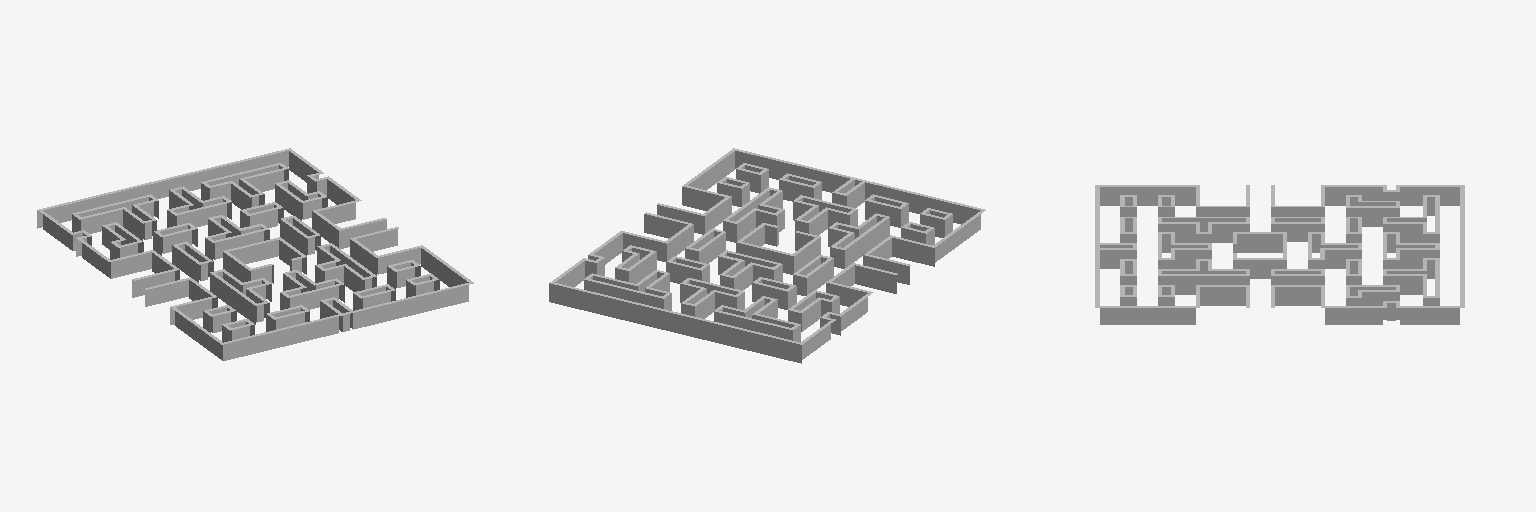
Rendered from map.obj.
The picture shows the model from 3 angles: view 1: azimuth 30°, elevation 25°; view 2: azimuth 150°, elevation 25°; view 3: azimuth 270°, elevation 25°; orthographic projection.
Parts seen in each view (by area): view 1: Cube.001, Cube.020, Cube.019, Cube.016, Cube.008, Cube.007, Cube.013, Cube.009, Cube.012, Cube.017, Cube.011, Cube.010 (+9 smaller); view 2: Cube.001, Cube.016, Cube.008, Cube.019, Cube.020, Cube.007, Cube.013, Cube.009, Cube.012, Cube.018, Cube.017, Cube.011 (+9 smaller); view 3: Cube.001, Cube.008, Cube.016, Cube.007, Cube.019, Cube.020, Cube.013, Cube.012, Cube.009, Cube.018, Cube.017, Cube.011 (+1 smaller).
Boxes of the visible parts, box(x1,y1,x2,y2) form: Cube.001: box(37, 148, 473, 360); Cube.020: box(72, 194, 158, 240); Cube.019: box(201, 163, 288, 209); Cube.016: box(223, 237, 306, 283); Cube.008: box(210, 269, 271, 324); Cube.007: box(315, 243, 376, 291); Cube.013: box(167, 186, 231, 227); Cube.009: box(280, 270, 344, 309); Cube.012: box(205, 215, 269, 260); Cube.017: box(275, 180, 327, 220); Cube.011: box(172, 242, 213, 282); Cube.010: box(280, 216, 320, 255); Cube.001: box(549, 148, 985, 363); Cube.016: box(736, 223, 820, 274); Cube.008: box(828, 213, 889, 268); Cube.019: box(584, 270, 671, 310); Cube.020: box(714, 296, 800, 342); Cube.007: box(723, 187, 784, 242); Cube.013: box(680, 278, 744, 318); Cube.009: box(793, 195, 857, 235); Cube.012: box(718, 250, 782, 290); Cube.018: box(788, 290, 839, 331); Cube.017: box(615, 245, 656, 283); Cube.011: box(793, 255, 833, 295); Cube.001: box(1095, 185, 1464, 324); Cube.008: box(1158, 217, 1249, 242); Cube.016: box(1233, 232, 1286, 278); Cube.007: box(1158, 259, 1249, 294); Cube.019: box(1383, 258, 1439, 305); Cube.020: box(1383, 195, 1439, 242); Cube.013: box(1383, 232, 1439, 268); Cube.012: box(1308, 232, 1361, 268); Cube.009: box(1158, 232, 1211, 268); Cube.018: box(1346, 195, 1399, 226); Cube.017: box(1346, 285, 1399, 305); Cube.011: box(1271, 217, 1324, 241).
Size of the model in its own units: 14 by 1 by 17.7.